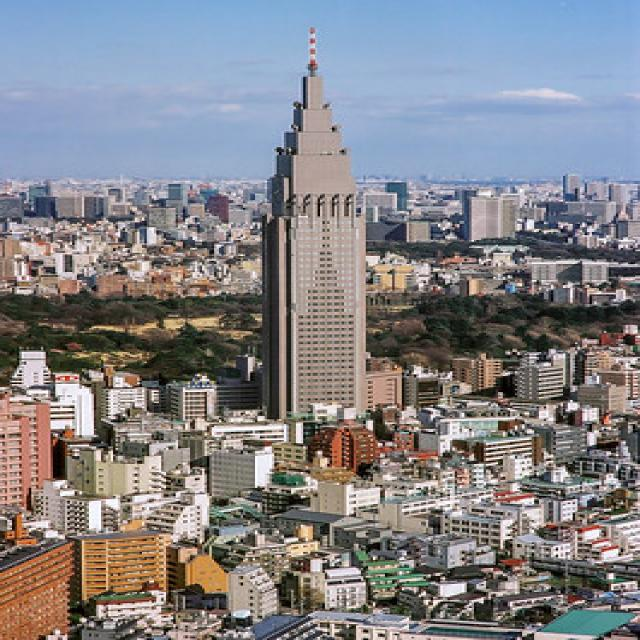Normal_building: (258, 63, 376, 439)
